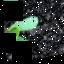Purslane: (0, 0, 45, 64)
